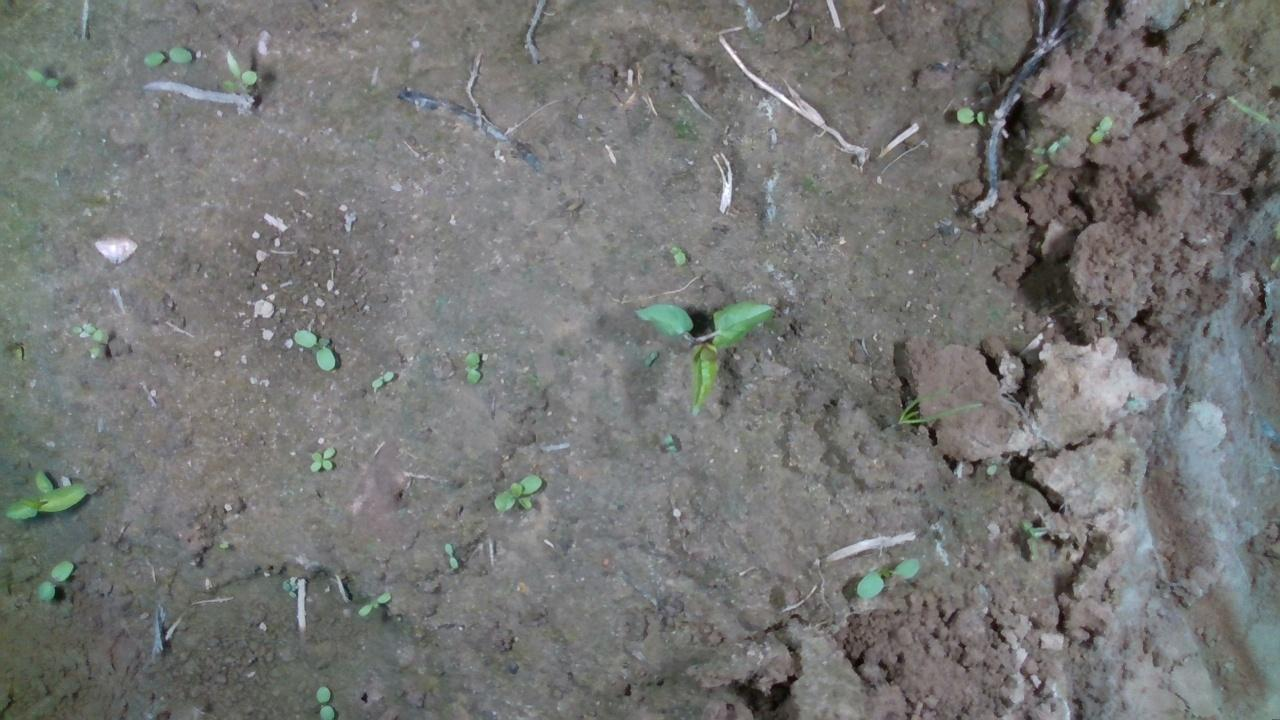weed: (854, 555, 920, 599), (490, 471, 543, 516), (291, 327, 336, 371), (33, 557, 73, 602), (139, 43, 192, 67), (356, 591, 391, 616), (954, 104, 992, 127), (308, 444, 336, 472), (461, 350, 483, 385), (23, 67, 59, 88), (1088, 113, 1112, 144), (314, 684, 335, 718), (368, 368, 394, 388), (443, 541, 459, 570), (666, 245, 687, 266), (642, 346, 659, 366)
